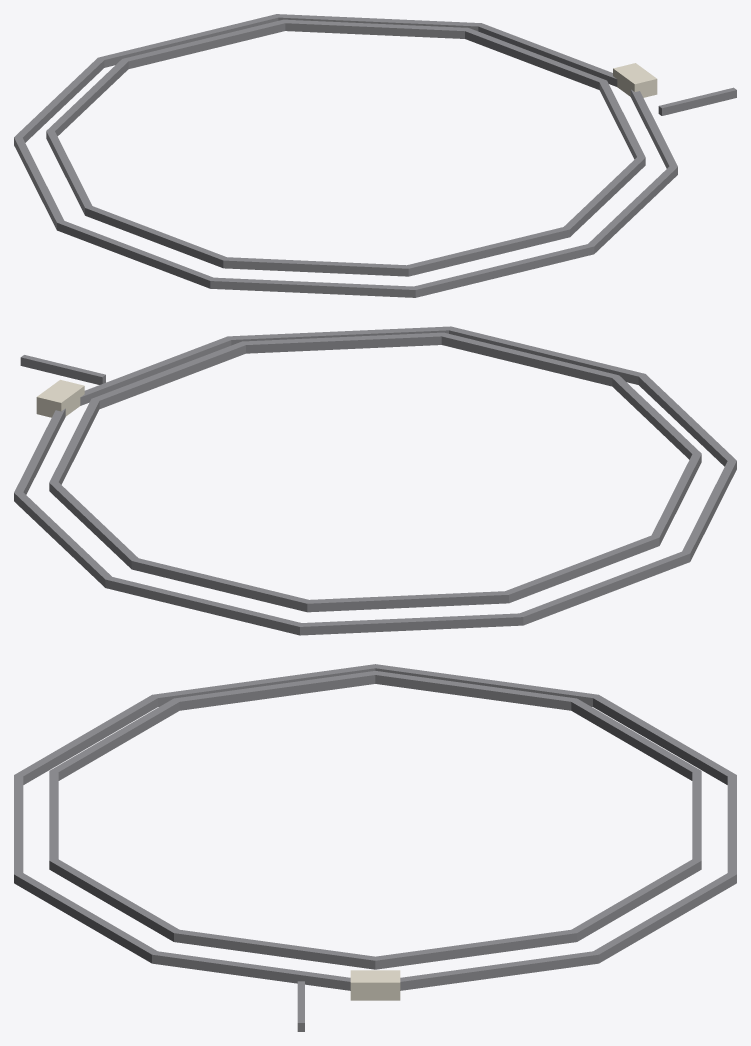
Rendered from prop-brim-wire-blank.fbx.
3 renders of one model, top to bottom at view 1: azimuth 30°, elevation 25°; view 2: azimuth 150°, elevation 25°; view 3: azimuth 270°, elevation 25°, orthographic. The views are drawn at different scales.
Visible parts, largest first — view 1: prop-brim-wire-blank; view 2: prop-brim-wire-blank; view 3: prop-brim-wire-blank.
Boxes of the visible parts, box(x1,y1,x2,y2) form: prop-brim-wire-blank: box(14, 14, 736, 297); prop-brim-wire-blank: box(14, 326, 736, 635); prop-brim-wire-blank: box(14, 664, 736, 1031).
Bounding box in the file's own units: 34.4 × 0.8 × 29.29.
